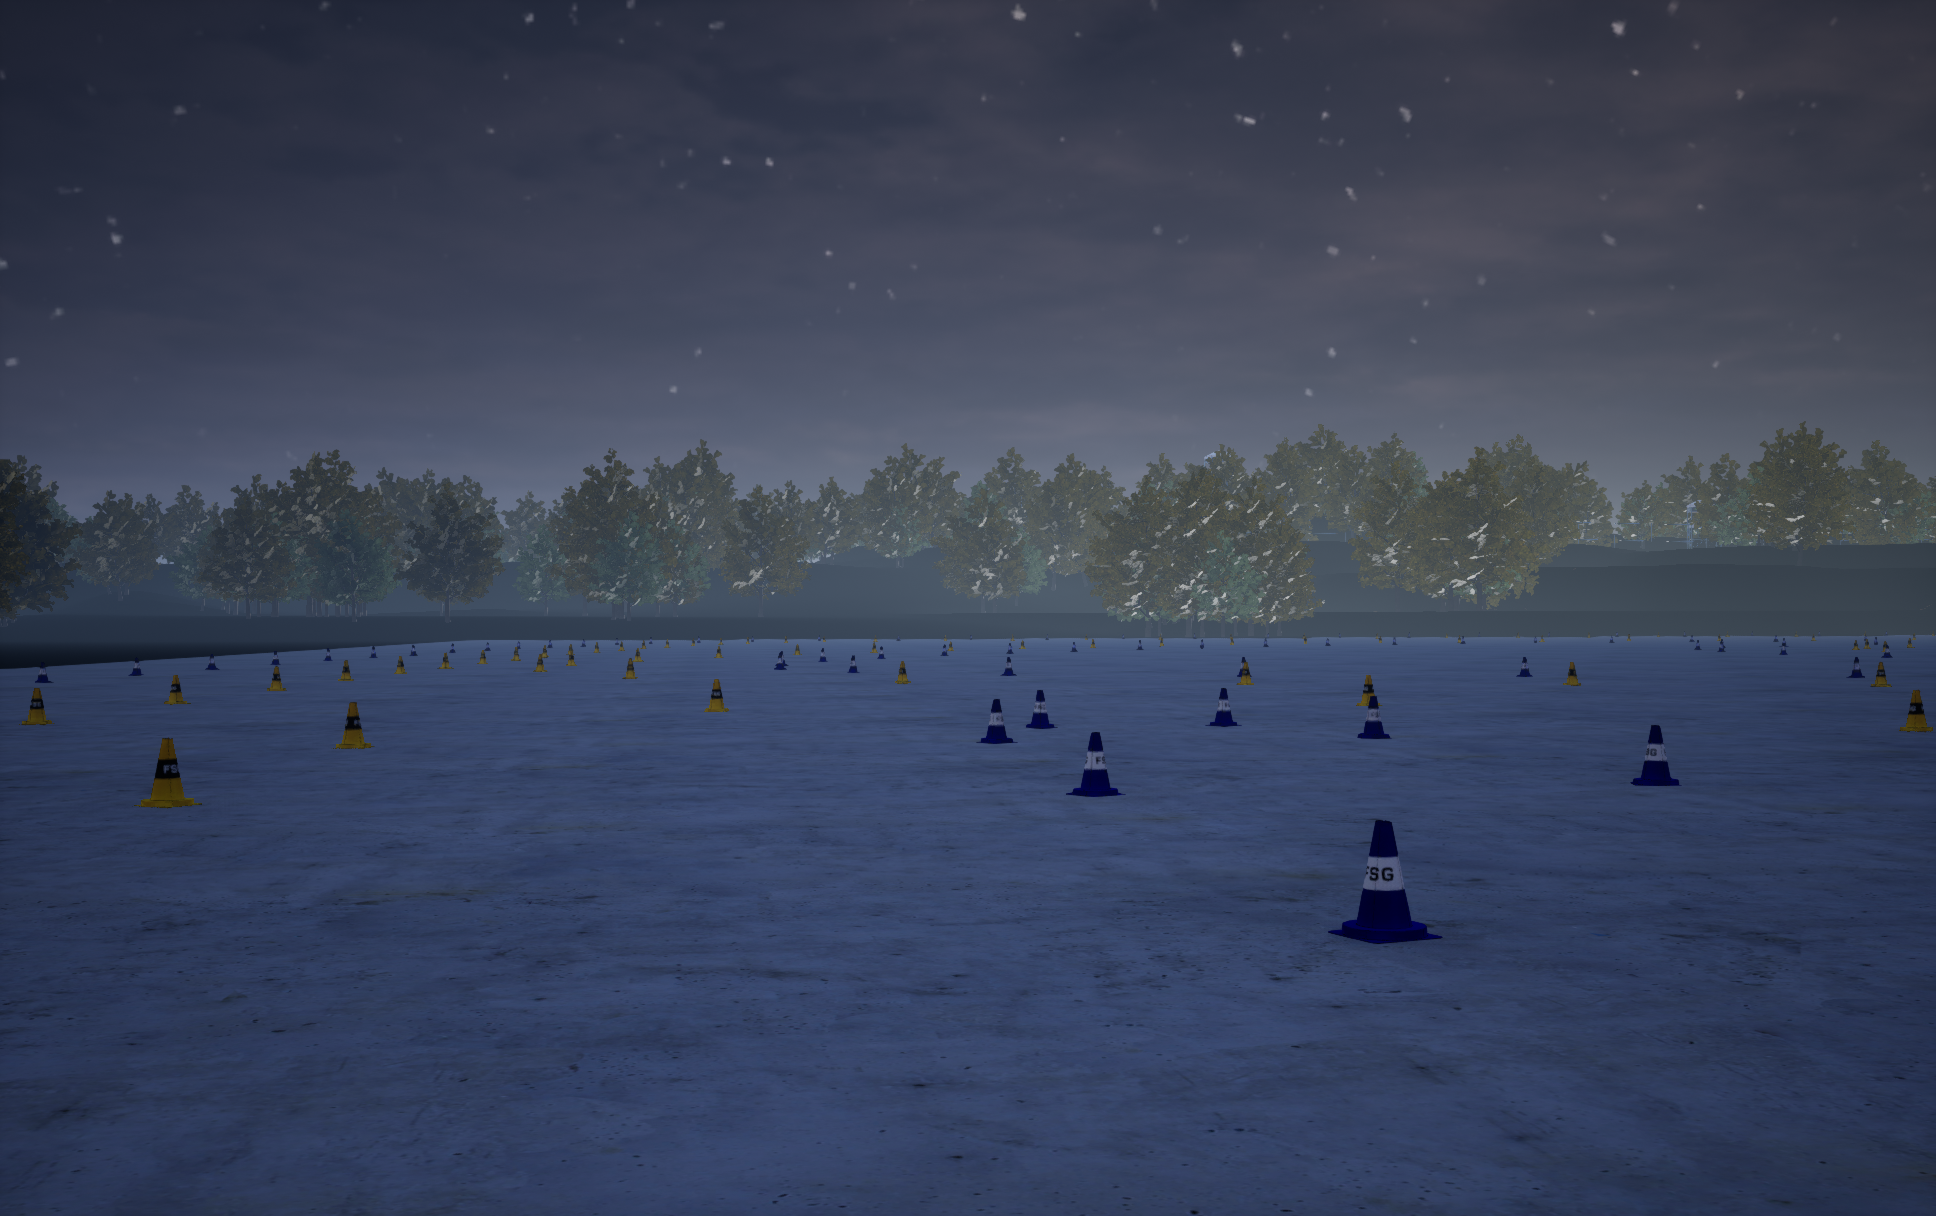blue: (132, 738, 200, 807), (331, 702, 374, 748), (1900, 691, 1932, 731), (20, 688, 55, 724), (164, 675, 191, 705), (1356, 675, 1383, 705), (705, 679, 728, 712), (1870, 663, 1891, 686), (268, 665, 286, 691), (1563, 663, 1580, 685), (1236, 663, 1252, 684), (895, 661, 911, 684), (338, 660, 353, 679), (622, 658, 637, 678)
yellow: (1328, 820, 1441, 943), (1066, 733, 1125, 796), (1631, 726, 1681, 785), (976, 699, 1017, 742), (1357, 696, 1391, 738), (1205, 688, 1241, 726), (1025, 691, 1058, 728), (35, 663, 53, 682), (1846, 657, 1865, 677), (1516, 657, 1533, 677), (1000, 657, 1016, 675), (1237, 657, 1251, 677), (848, 656, 859, 672)
